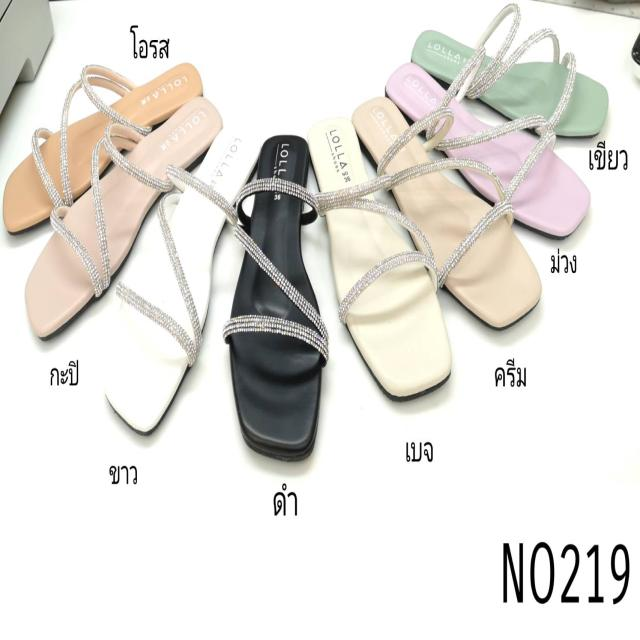bej: (307, 122, 451, 399)
black: (230, 134, 322, 462)
cream: (353, 98, 540, 330)
green: (412, 26, 606, 138)
kapi: (2, 35, 201, 288)
orot: (5, 57, 201, 236)
purple: (387, 59, 591, 242)
white: (22, 67, 218, 336)
